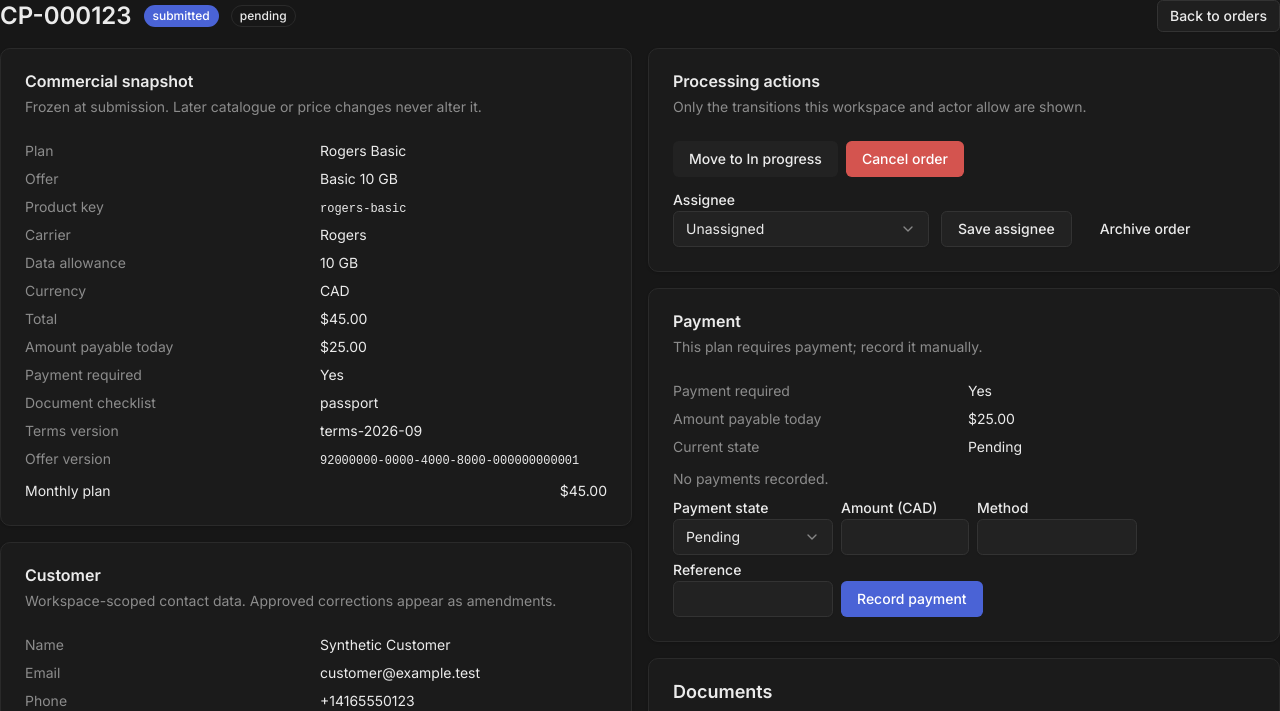
Scenario: OrderDetailView optimistic concurrency › reports a stale edit as changed by someone else and offers a reload
The width and height of the screenshot is (1280, 711).
Expected: the heading "CP-000123" is shown, [0,0,132,32]
Click the button "Move to In progress".
click(755, 159)  # box [673,141,838,177]
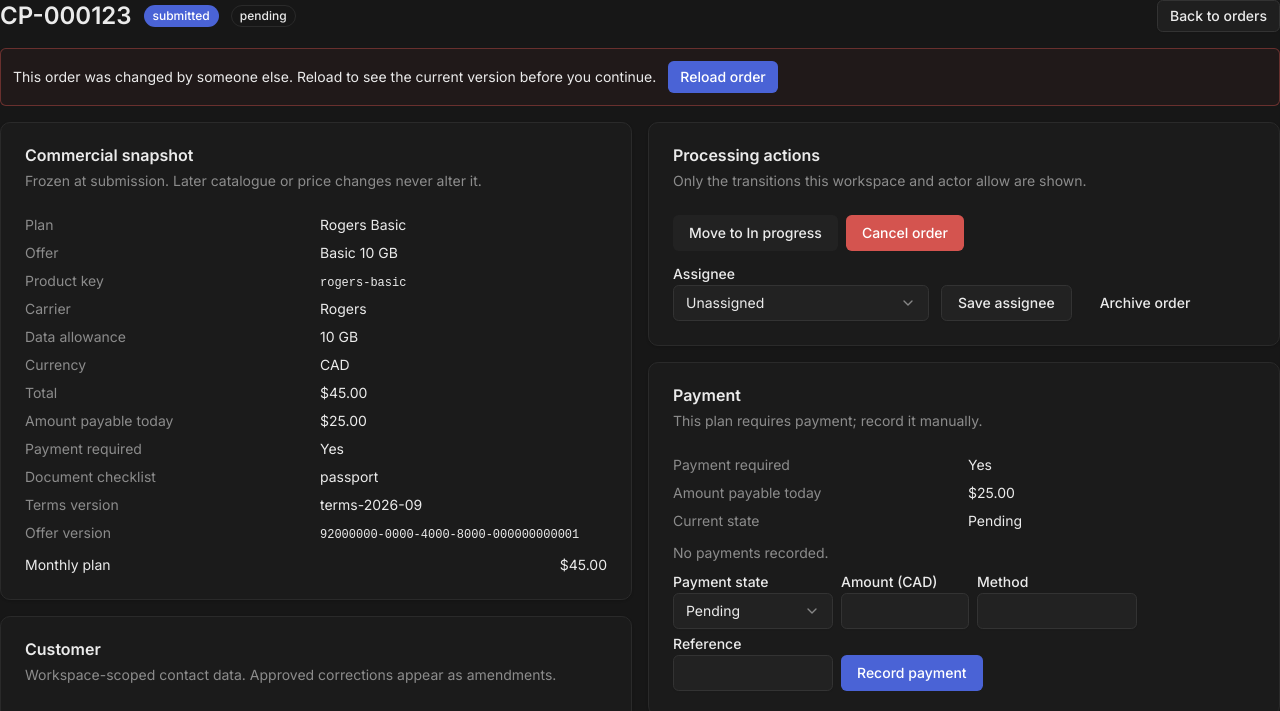
Expected: the message shows "changed by someone else", [13,68,656,85]
Click the button "Reload order".
click(723, 77)  # box [668,61,778,93]
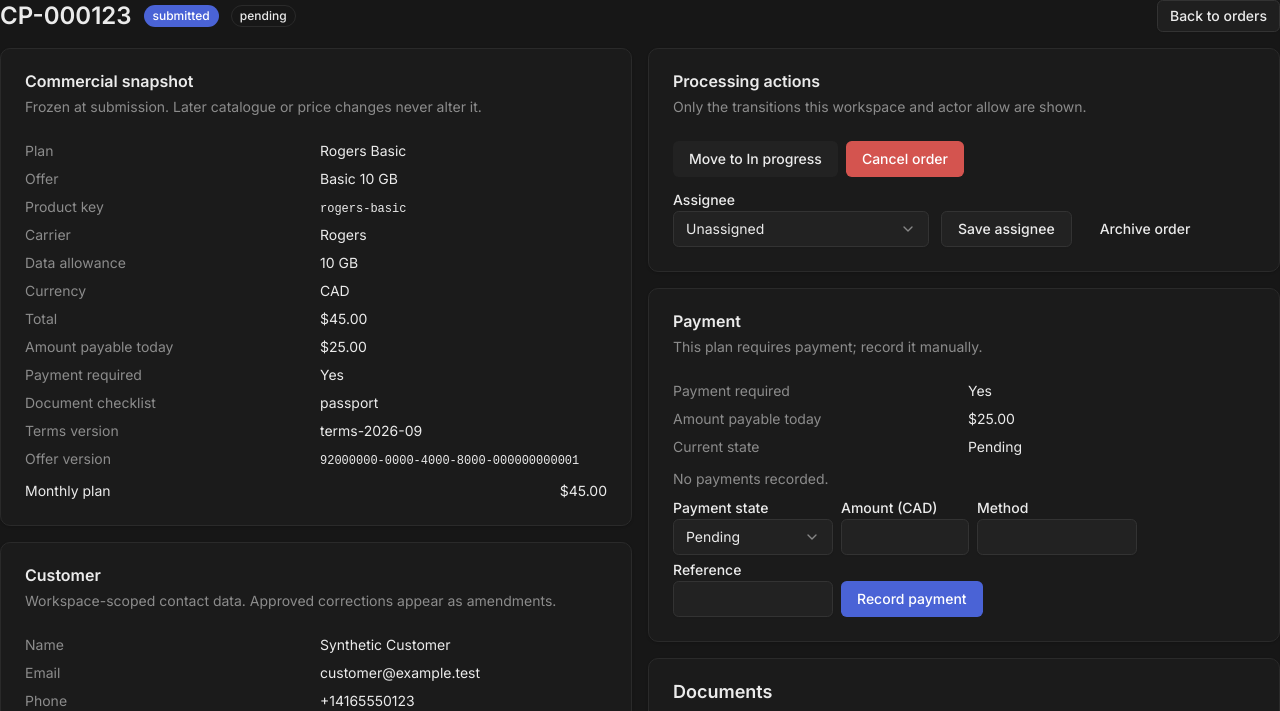
Expected: the message is gone
